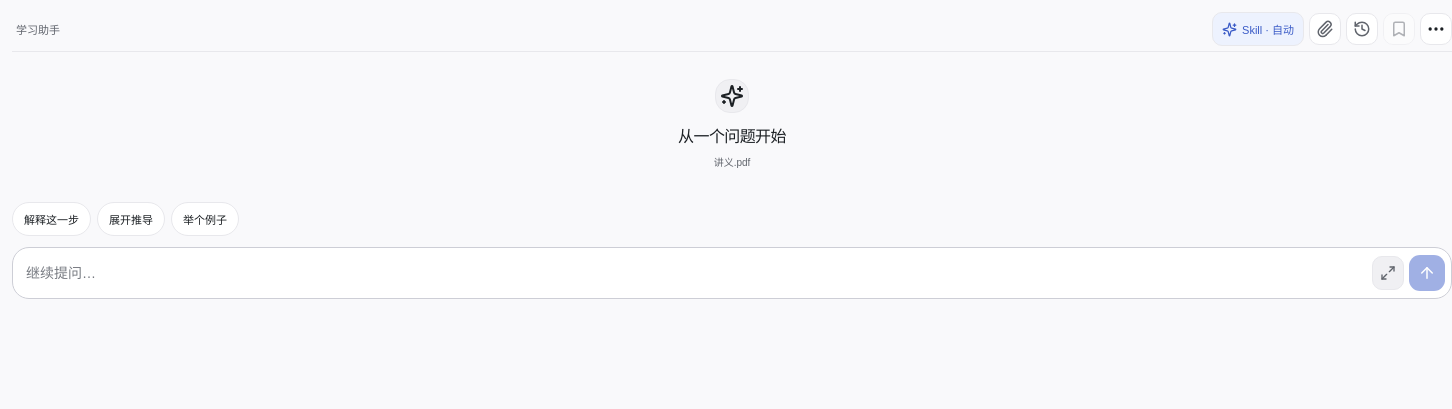
Test: retains already prepared materials even when the user closes before the first question
Type "第一次正式提问" into the text box named "向学习助手提问" at (693, 273), box [19, 254, 1367, 292]
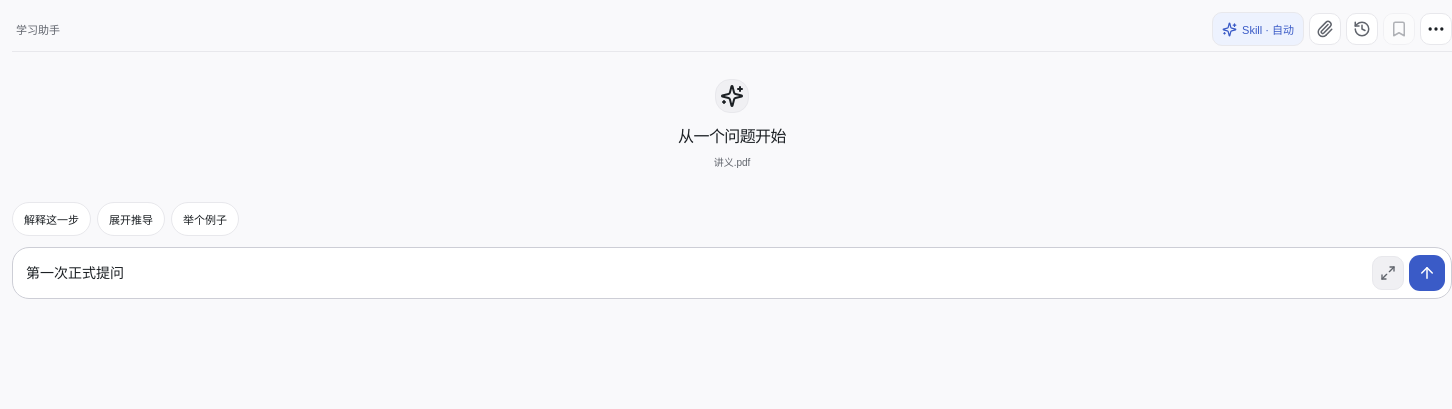
Click the button named "发送问题" at (1427, 273), box [1409, 255, 1445, 291]
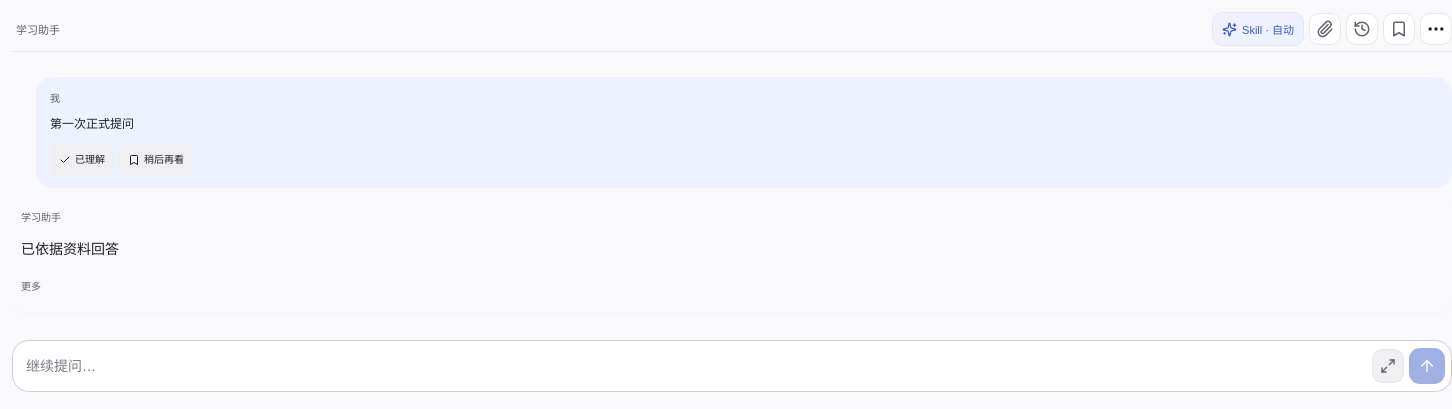
Now the text "已依据资料回答" is shown, box [21, 241, 119, 257]
